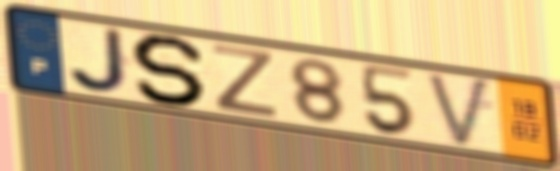5: (356, 60, 420, 138)
8: (283, 58, 348, 126)
J: (65, 25, 135, 96)
S: (128, 32, 212, 108)
V: (423, 70, 495, 152)
Z: (210, 41, 281, 121)
